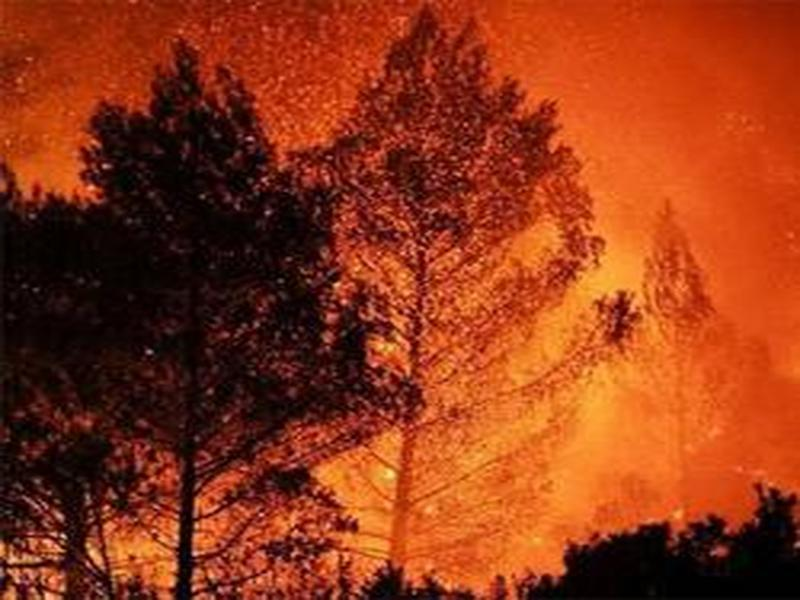FIRE: (83, 236, 765, 600)
